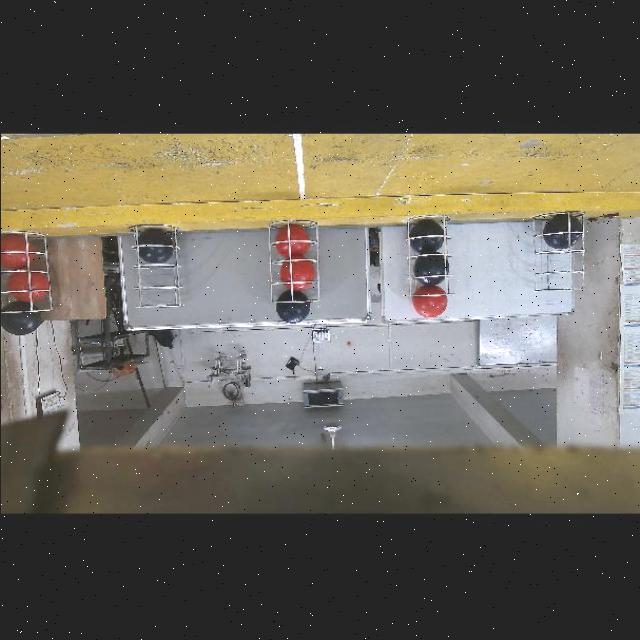P: (543, 213, 582, 250), (131, 228, 172, 263), (0, 301, 41, 335), (410, 219, 444, 253), (275, 289, 309, 323), (413, 255, 449, 286)
R: (6, 271, 48, 302), (0, 234, 35, 269), (412, 285, 448, 318), (275, 224, 309, 257), (279, 260, 314, 292)
S: (264, 216, 324, 310), (129, 219, 185, 313), (0, 230, 58, 318), (531, 216, 585, 292), (408, 214, 457, 296)
